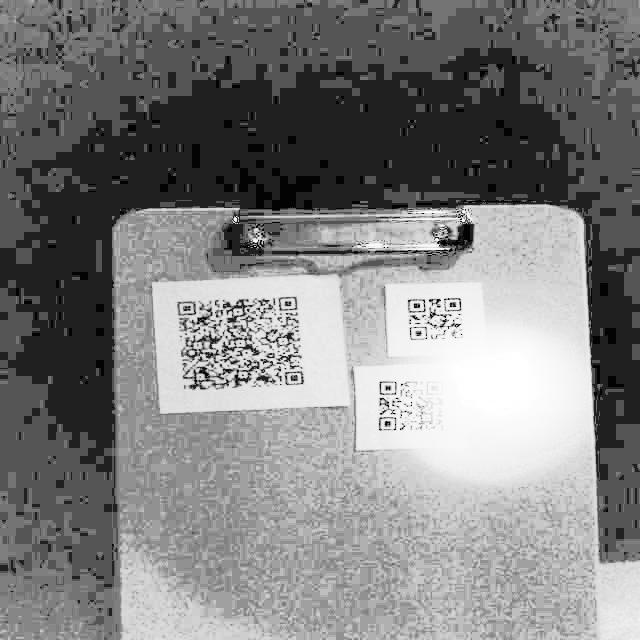qr_code: (168, 281, 311, 404), (366, 368, 454, 441), (395, 287, 478, 348)
